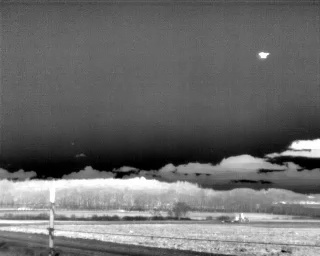DRONE: (255, 48, 272, 63)
